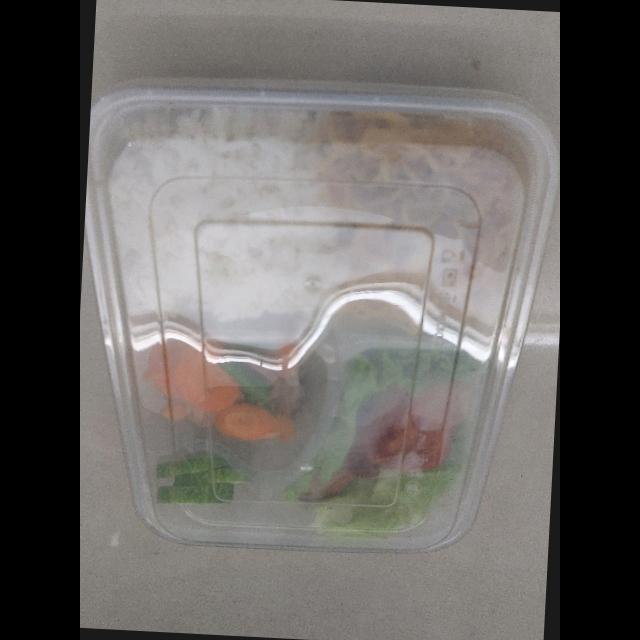bento: (86, 99, 558, 557)
